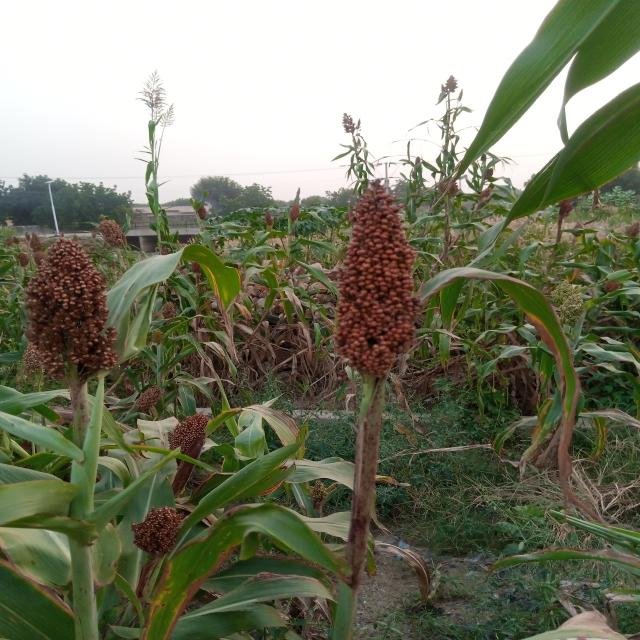RipeSorghum: (332, 169, 425, 381), (10, 218, 132, 379), (104, 500, 202, 562)
